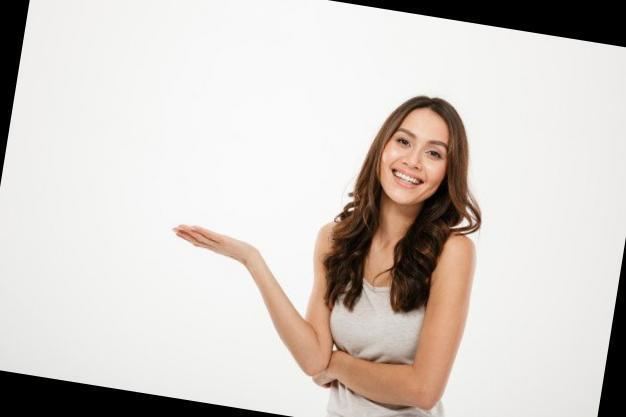Sober: (391, 112, 443, 202)
